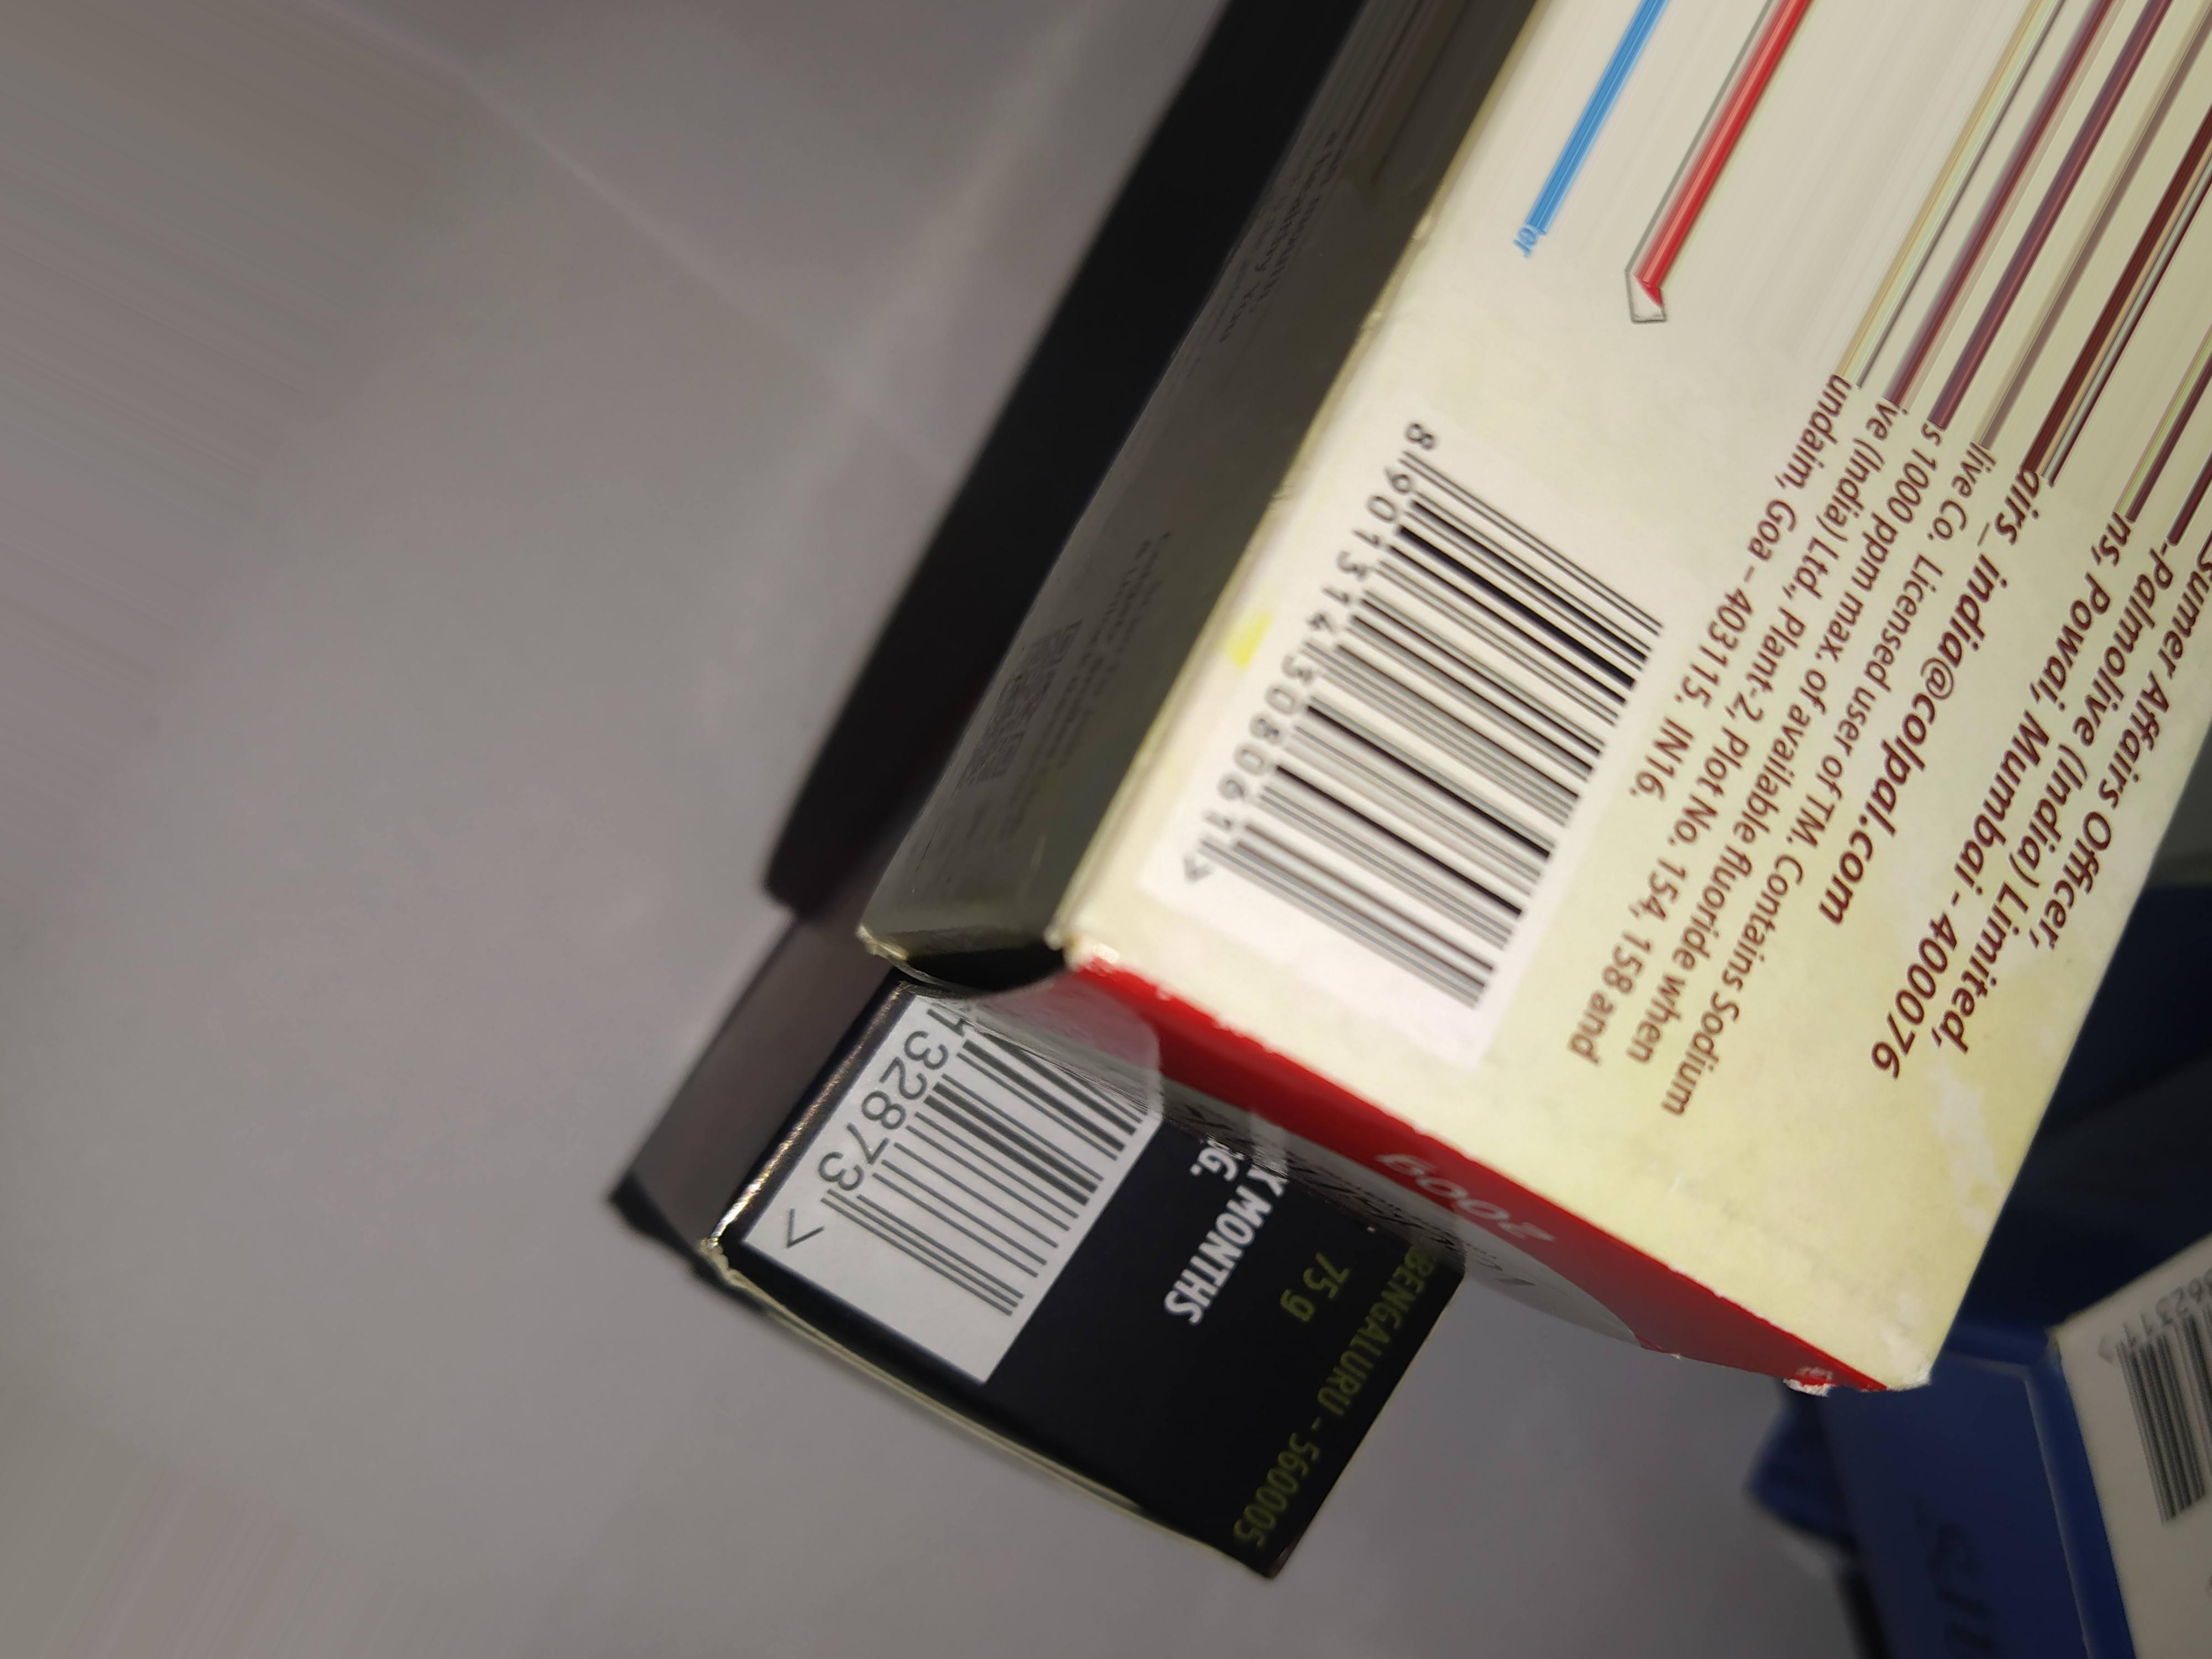Bar_code: (1170, 376, 1641, 1037), (742, 958, 1150, 1338)
